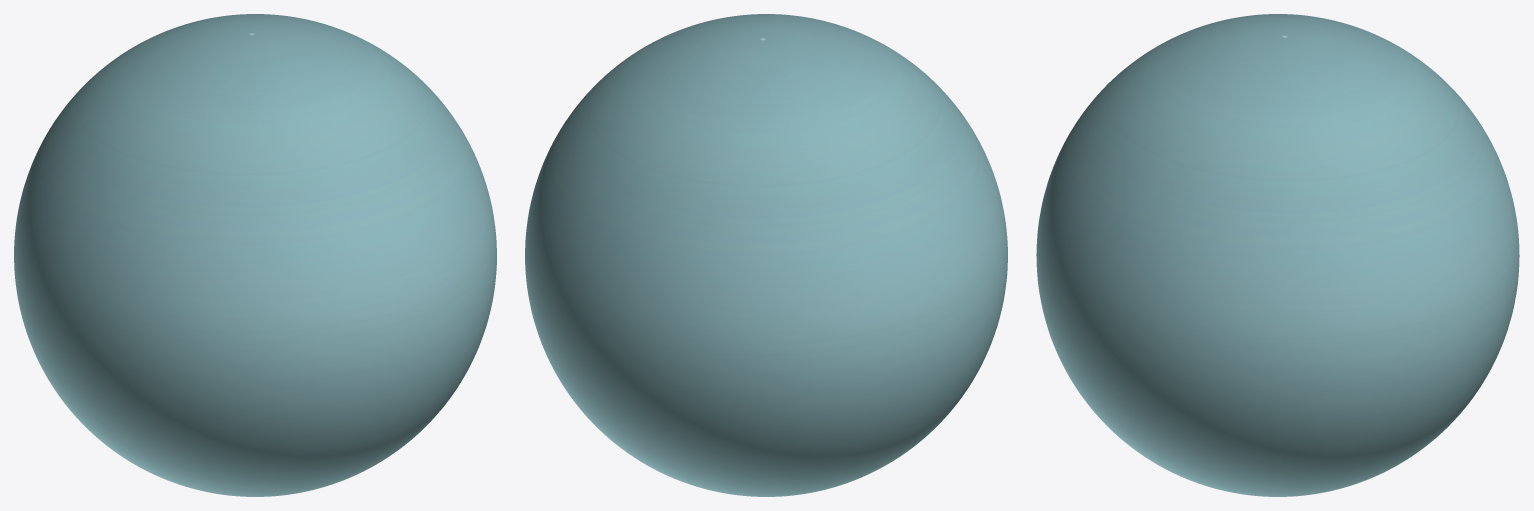
Rendered from uranus.glb.
3 views of the same model, side by side, from view 1: azimuth 30°, elevation 25°; view 2: azimuth 150°, elevation 25°; view 3: azimuth 270°, elevation 25° (orthographic).
Parts seen in each view (by area): view 1: Object_3; view 2: Object_3; view 3: Object_3.
Part boxes in pixels (x1,y1,x2,y2): Object_3: [14, 14, 496, 496]; Object_3: [525, 14, 1007, 496]; Object_3: [1036, 14, 1519, 496].
Size of the model in its own units: 2 by 2 by 2.
1 material, 1 textured.
